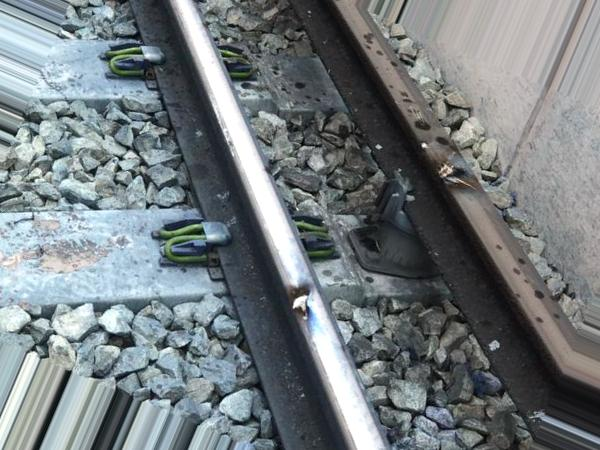tracks_fault: (387, 97, 497, 240), (253, 244, 336, 357)
